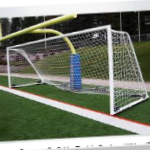goals: (6, 23, 149, 115)
